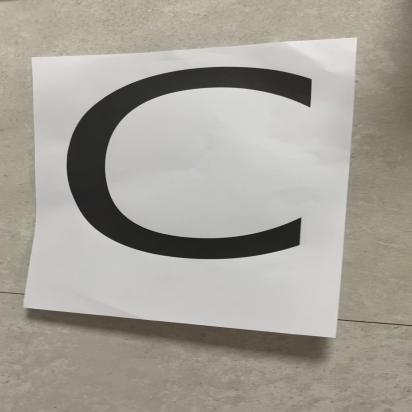seat: (47, 45, 362, 330)
